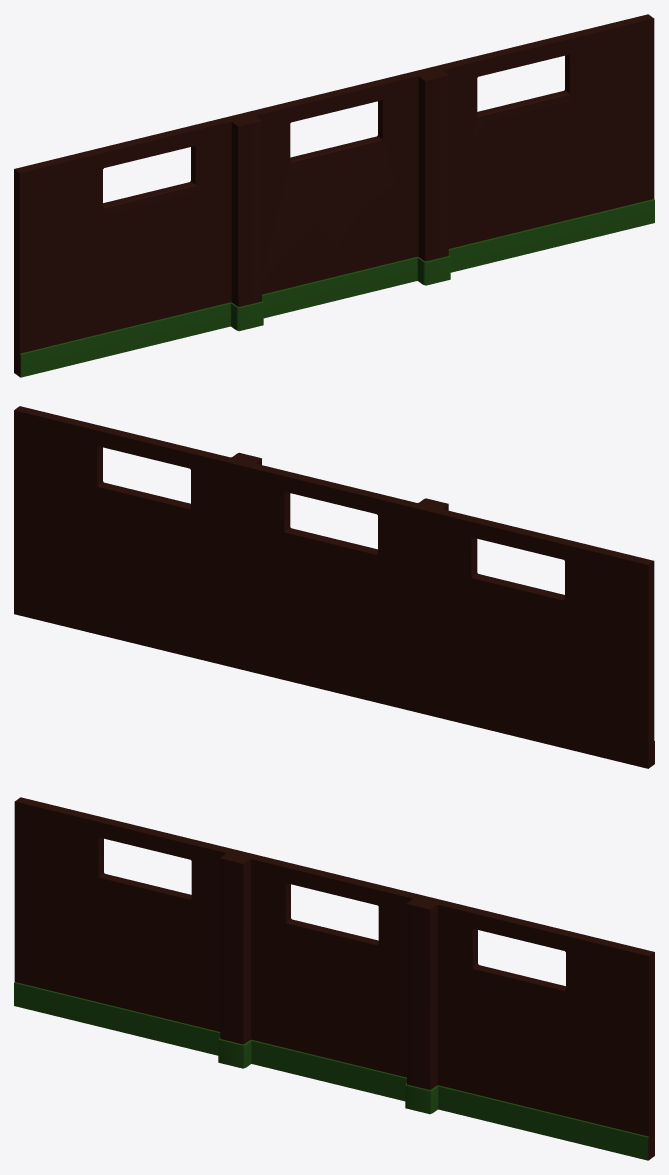
File: SeanElstonLongwall_windowsFinal.fbx
3 views of the same model, one above another, from view 1: azimuth 30°, elevation 25°; view 2: azimuth 150°, elevation 25°; view 3: azimuth 330°, elevation 25° (orthographic).
Parts seen in each view (by area): view 1: Longwall_windows; view 2: Longwall_windows; view 3: Longwall_windows.
Part boxes in pixels (<box>): Longwall_windows: <box>14,14,654,377</box>; Longwall_windows: <box>14,406,654,768</box>; Longwall_windows: <box>14,797,654,1160</box>.
Size of the model in its own units: 1075 by 330 by 40.04.
